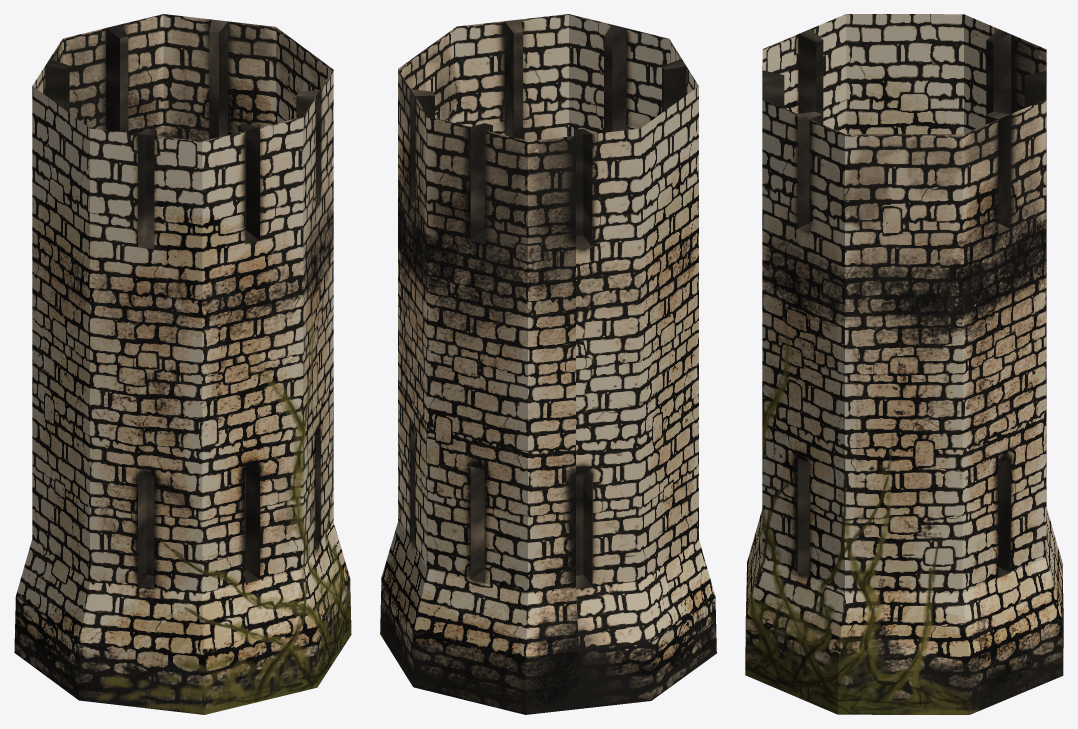
The model's file is WinterFellCastleTower.FBX.
3 views of the same model, side by side, from view 1: azimuth 30°, elevation 25°; view 2: azimuth 150°, elevation 25°; view 3: azimuth 270°, elevation 25° (orthographic).
Parts seen in each view (by area): view 1: Tower; view 2: Tower; view 3: Tower.
Part boxes in pixels (<box>): Tower: <box>14,14,351,714</box>; Tower: <box>380,14,716,714</box>; Tower: <box>745,14,1063,714</box>.
Size of the model in its own units: 403 by 801 by 403.
